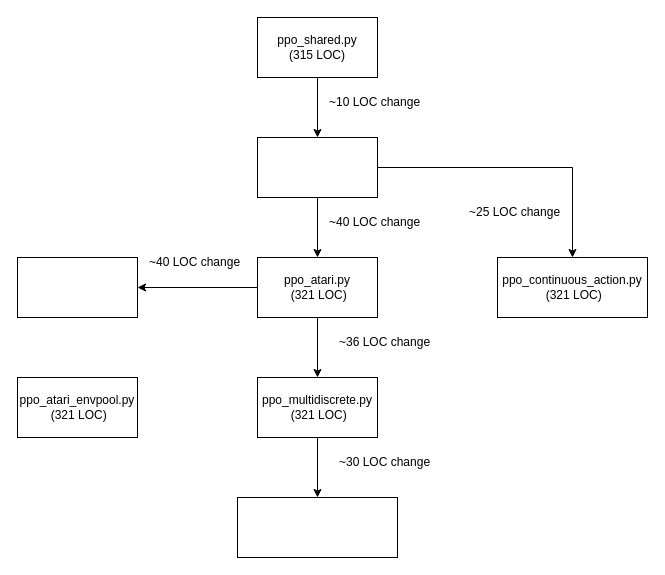
Image size: 665x575. Some labels were removed from this diagram. Here are the shapes that lost their labels. From the top down, the centre of each, then its label:
At pixel 317 167: "ppo.py (321 LOC)".
At pixel 77 287: "ppo_atari_lstm.py (321 LOC)".
At pixel 317 527: "ppo_multidiscrete_mask.py (321 LOC)".
